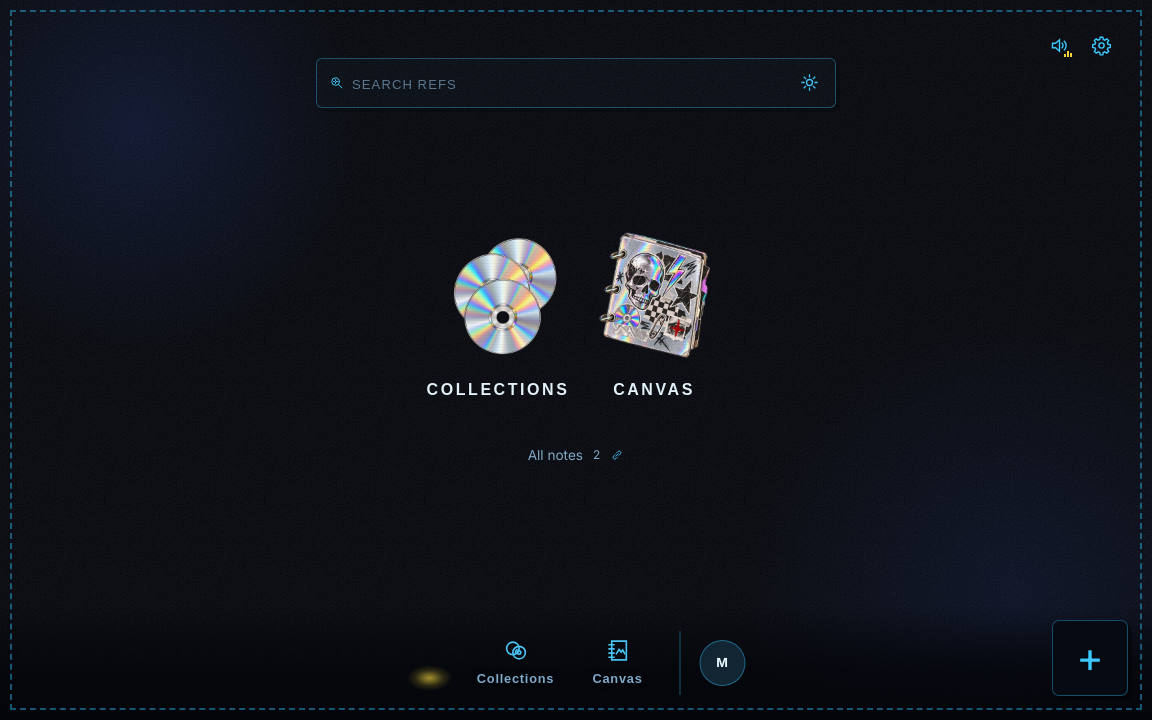
it: App › renders centered refs with saved cards and collections
What coordinates should you click on to do the following:
click the button "All notes 2"
I would click on:
 (576, 455)
Its box is [516,433,636,477].
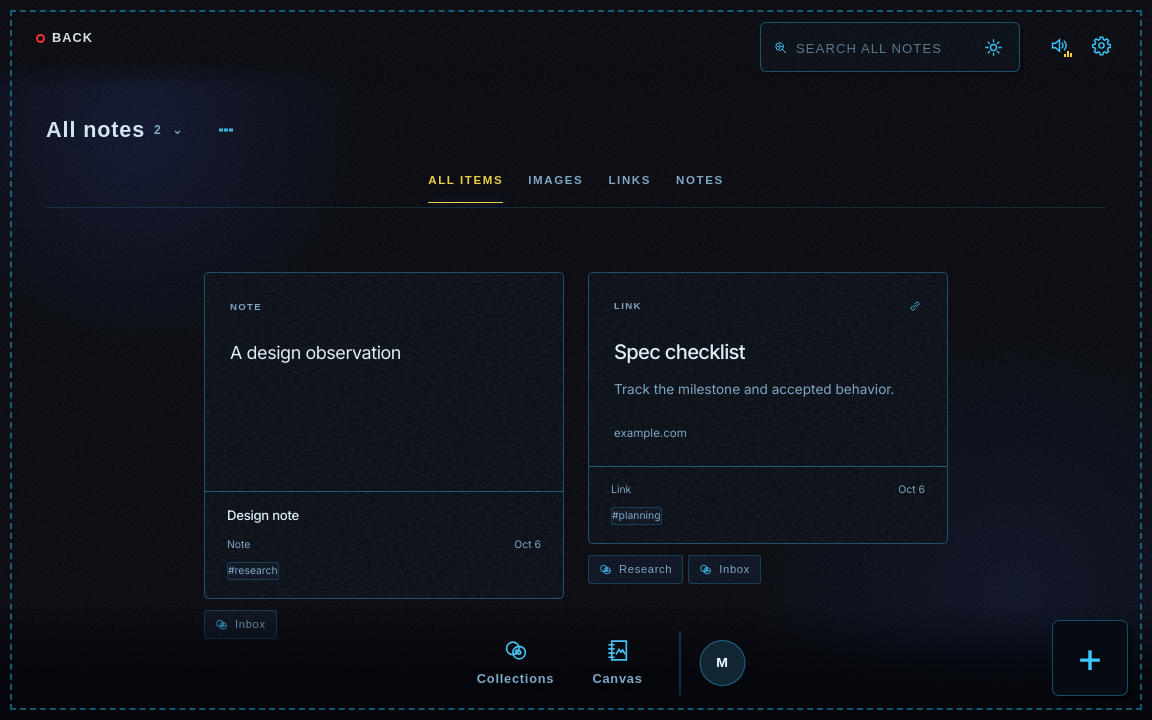
Expected: the element named "Open Spec checklist" is shown, [588,272,948,544]
Expected: the button with aria-label "Choose collection" is shown, [46,108,184,152]
Expected: the heading "Spec checklist" is shown, [614,339,745,364]
